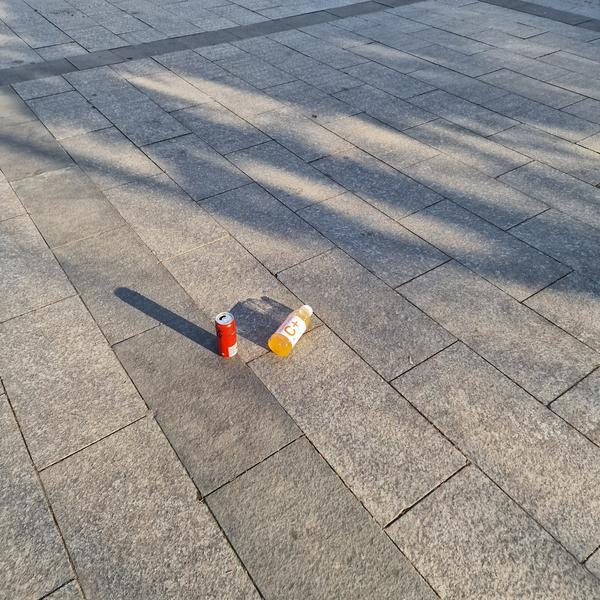can: (213, 310, 240, 360)
plastic_bottle: (263, 298, 321, 361)
